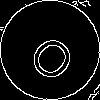O: (25, 25, 85, 86)
